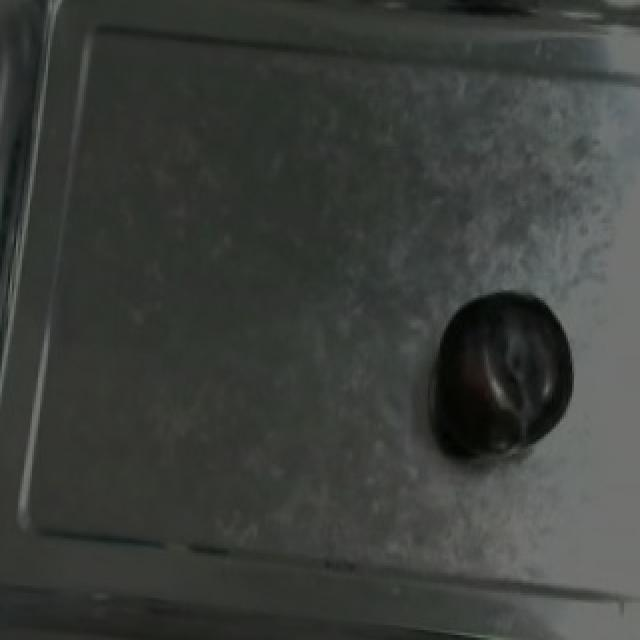Fruit: (422, 278, 584, 469)
